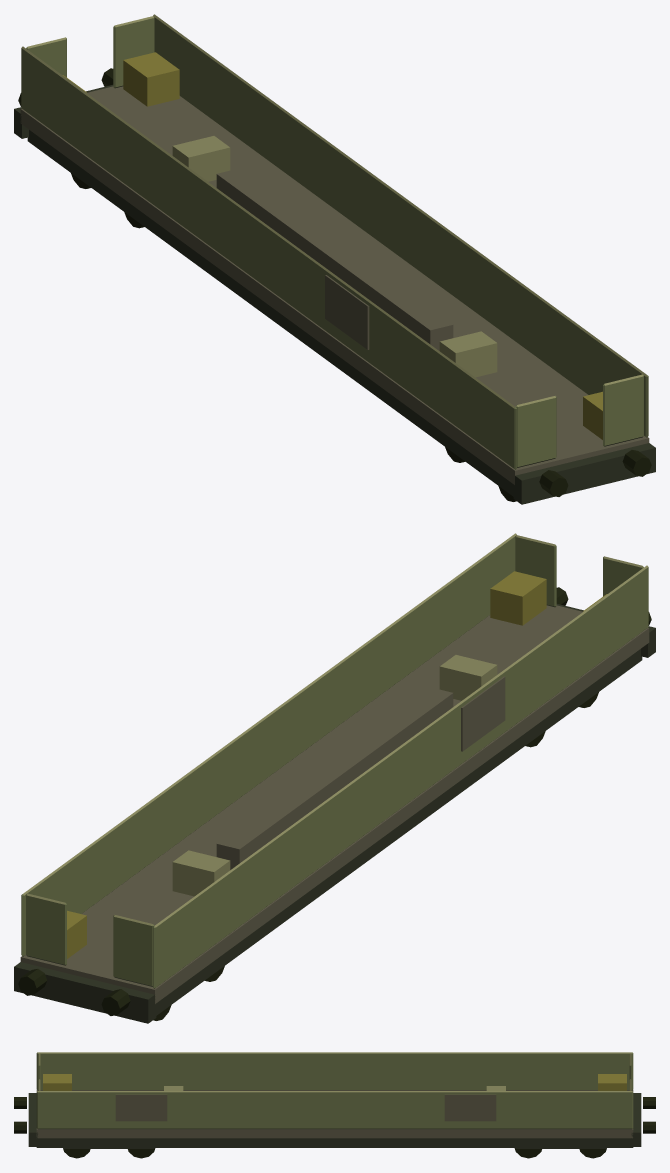
Rendered from SM_vagon_tropa_r2_LOD1.fbx.
3 views of the same model, one above another, from view 1: azimuth 30°, elevation 25°; view 2: azimuth 150°, elevation 25°; view 3: azimuth 270°, elevation 25° (orthographic). The views are drawn at different scales.
Visible parts, largest first — view 1: SM_vagon_tropa_r2_LOD1; view 2: SM_vagon_tropa_r2_LOD1; view 3: SM_vagon_tropa_r2_LOD1.
Part boxes in pixels (bbox=[...]): SM_vagon_tropa_r2_LOD1: bbox=[14, 14, 655, 504]; SM_vagon_tropa_r2_LOD1: bbox=[14, 533, 655, 1023]; SM_vagon_tropa_r2_LOD1: bbox=[14, 1052, 655, 1158].
Bounding box in the file's own units: 2.97 × 2.55 × 19.9.
